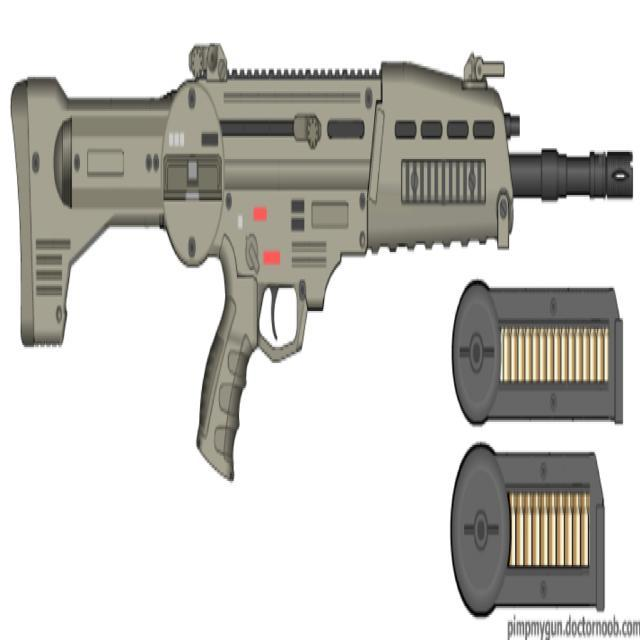weapon: (8, 39, 634, 484)
